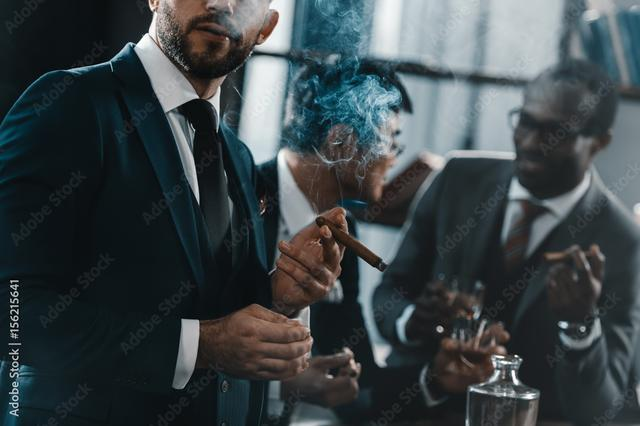Cigar: (314, 215, 388, 272), (546, 246, 596, 264), (342, 344, 357, 376)
